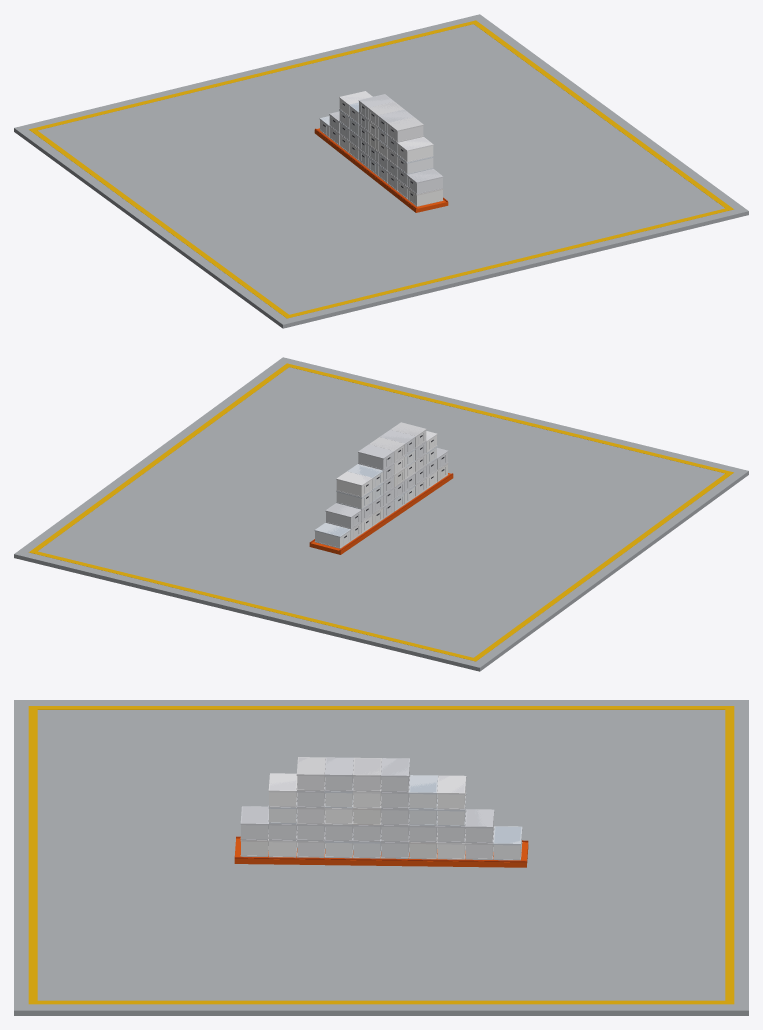
File: setor_principal.glb
3 views of the same model, one above another, from view 1: azimuth 30°, elevation 25°; view 2: azimuth 150°, elevation 25°; view 3: azimuth 270°, elevation 25° (orthographic). The views are drawn at different scales.
Visible parts, largest first — view 1: setor_principal, object 3, object 2, object 4, object 5, object 6; view 2: setor_principal, object 2, object 3, object 4, object 5, object 6; view 3: setor_principal, object 4, object 2, object 3, object 5, object 6, object 7, object 190, object 225.
Boxes of the visible parts, left/top/right/bottom form: setor_principal: left=14, top=14, right=748, bottom=328; object 3: left=284, top=207, right=733, bottom=318; object 2: left=30, top=20, right=478, bottom=131; object 4: left=471, top=20, right=730, bottom=210; object 5: left=29, top=128, right=290, bottom=317; object 6: left=314, top=128, right=448, bottom=212; setor_principal: left=14, top=357, right=748, bottom=671; object 2: left=29, top=550, right=478, bottom=661; object 3: left=284, top=363, right=733, bottom=474; object 4: left=32, top=363, right=290, bottom=553; object 5: left=473, top=471, right=733, bottom=660; object 6: left=309, top=473, right=453, bottom=554; setor_principal: left=14, top=700, right=748, bottom=1015; object 4: left=28, top=1000, right=734, bottom=1004; object 2: left=725, top=706, right=734, bottom=1002; object 3: left=28, top=706, right=37, bottom=1002; object 5: left=28, top=706, right=734, bottom=709; object 6: left=234, top=838, right=528, bottom=867; object 7: left=234, top=857, right=526, bottom=862; object 190: left=324, top=757, right=353, bottom=776; object 225: left=296, top=757, right=325, bottom=776.
Size of the model in its own units: 10 by 1.41 by 10.
